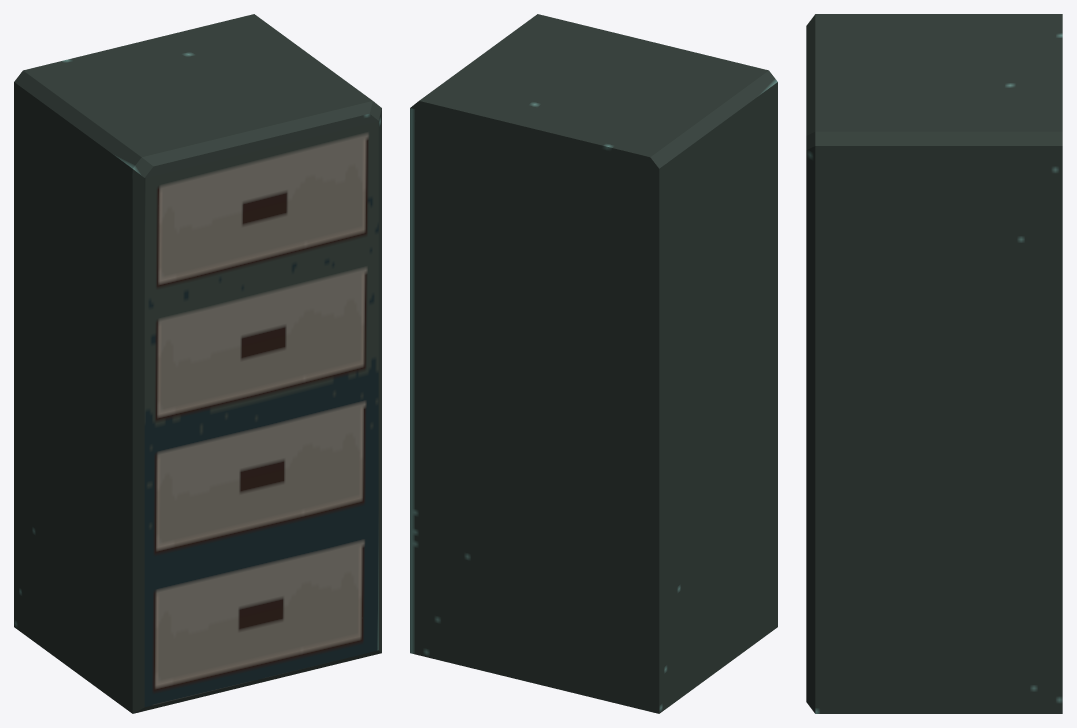
File: ArmarioVerde.fbx
The picture shows the model from 3 angles, left to right: view 1: azimuth 30°, elevation 25°; view 2: azimuth 150°, elevation 25°; view 3: azimuth 270°, elevation 25°; orthographic projection. The views are drawn at different scales.
Parts seen in each view (by area): view 1: ArmarioVerde; view 2: ArmarioVerde; view 3: ArmarioVerde.
Part boxes in pixels (box(x1,y1,x2,y2)): ArmarioVerde: box(14, 14, 381, 713); ArmarioVerde: box(410, 14, 777, 713); ArmarioVerde: box(806, 14, 1062, 713).
Size of the model in its own units: 103 by 87.71 by 218.
